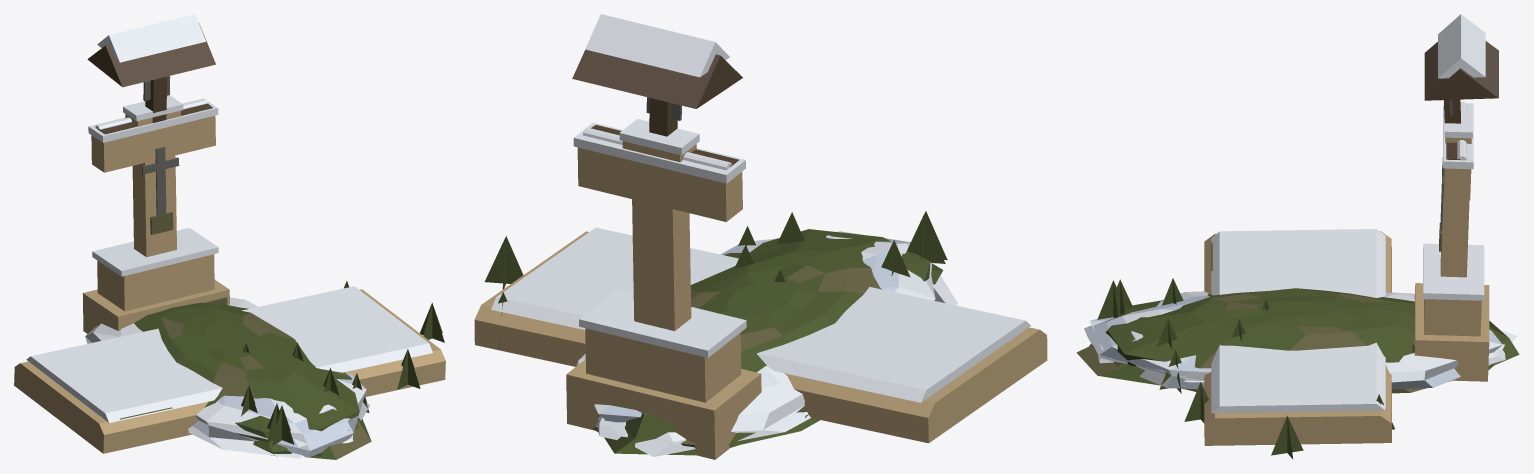
Rendered from fuellung_kirchhof.glb.
3 views of the same model, side by side, from view 1: azimuth 30°, elevation 25°; view 2: azimuth 150°, elevation 25°; view 3: azimuth 270°, elevation 25° (orthographic). The views are drawn at different scales.
Parts seen in each view (by area): view 1: GrabkreuzHolz, Grabplatte_Winter, GrabkreuzStein, Grabplatte, GrabkreuzHolz_Winter, GrabkreuzStein_Winter; view 2: GrabkreuzStein, Grabplatte_Winter, GrabkreuzHolz, Grabplatte, GrabkreuzHolz_Winter, GrabkreuzStein_Winter; view 3: Grabplatte_Winter, GrabkreuzHolz, GrabkreuzStein, GrabkreuzHolz_Winter, Grabplatte, GrabkreuzStein_Winter.
Boxes of the visible parts, bbox=[...] form: GrabkreuzHolz: bbox=[87, 23, 371, 459]; Grabplatte_Winter: bbox=[26, 286, 432, 422]; GrabkreuzStein: bbox=[82, 110, 359, 456]; Grabplatte: bbox=[14, 281, 445, 453]; GrabkreuzHolz_Winter: bbox=[85, 14, 369, 457]; GrabkreuzStein_Winter: bbox=[88, 95, 353, 458]; GrabkreuzStein: bbox=[566, 141, 943, 459]; Grabplatte_Winter: bbox=[491, 227, 1030, 402]; GrabkreuzHolz: bbox=[572, 49, 947, 455]; Grabplatte: bbox=[474, 226, 1047, 443]; GrabkreuzHolz_Winter: bbox=[577, 14, 935, 456]; GrabkreuzStein_Winter: bbox=[573, 119, 957, 444]; Grabplatte_Winter: bbox=[1211, 229, 1385, 413]; GrabkreuzHolz: bbox=[1076, 41, 1519, 393]; GrabkreuzStein: bbox=[1089, 137, 1495, 391]; GrabkreuzHolz_Winter: bbox=[1084, 14, 1517, 389]; Grabplatte: bbox=[1159, 231, 1394, 459]; GrabkreuzStein_Winter: bbox=[1090, 102, 1505, 382].
Size of the model in its own units: 2.12 by 1.63 by 2.03.
